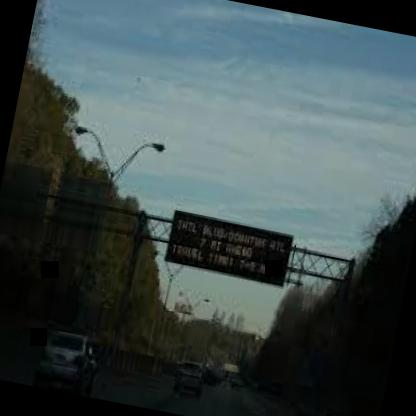car: (32, 318, 106, 396), (156, 345, 218, 410)
